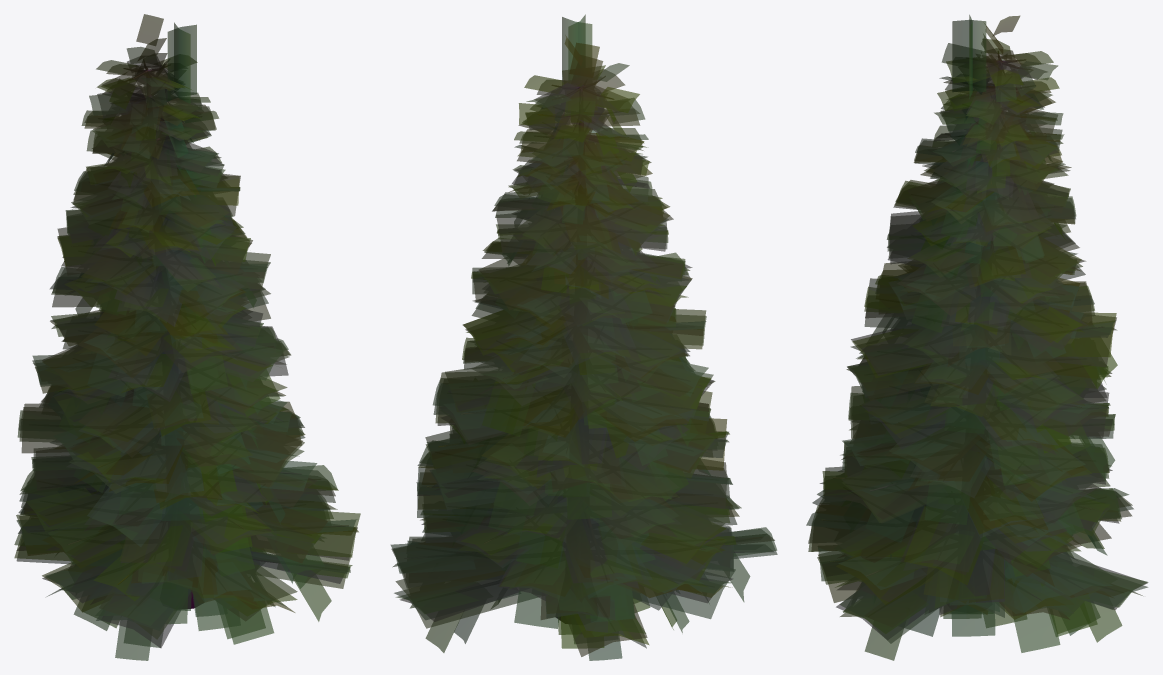
The model's file is veg_spruce_a.glb.
3 views of the same model, side by side, from view 1: azimuth 30°, elevation 25°; view 2: azimuth 150°, elevation 25°; view 3: azimuth 270°, elevation 25° (orthographic). The views are drawn at different scales.
Visible parts, largest first — view 1: veg_spruce_a_LOD0; view 2: veg_spruce_a_LOD0; view 3: veg_spruce_a_LOD0.
Part boxes in pixels (left/top/right/bottom): veg_spruce_a_LOD0: left=14, top=14, right=360, bottom=660; veg_spruce_a_LOD0: left=391, top=14, right=777, bottom=660; veg_spruce_a_LOD0: left=806, top=15, right=1148, bottom=660.
Size of what is drawn, in the model's own units: 2.05 by 4.01 by 2.12.
